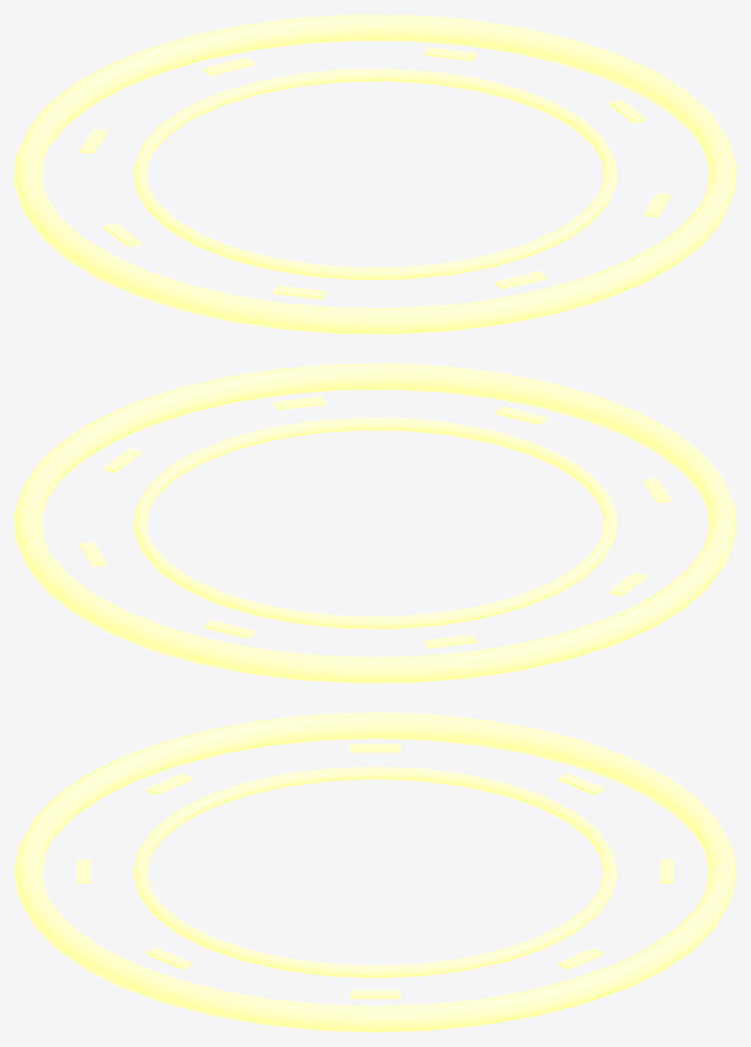
The model's file is HoverField.fbx.
3 renders of one model, top to bottom at view 1: azimuth 30°, elevation 25°; view 2: azimuth 150°, elevation 25°; view 3: azimuth 270°, elevation 25°, orthographic.
Parts seen in each view (by area): view 1: Emit_Ring0, Emit_Inner0; view 2: Emit_Ring0, Emit_Inner0; view 3: Emit_Ring0, Emit_Inner0.
Boxes of the visible parts, <box> form: Emit_Ring0: <box>14,14,736,334</box>; Emit_Inner0: <box>133,68,617,280</box>; Emit_Ring0: <box>14,363,736,683</box>; Emit_Inner0: <box>133,417,617,629</box>; Emit_Ring0: <box>14,712,736,1032</box>; Emit_Inner0: <box>133,766,617,978</box>.
Size of the model in its own units: 1.29 by 1.29 by 0.05.
